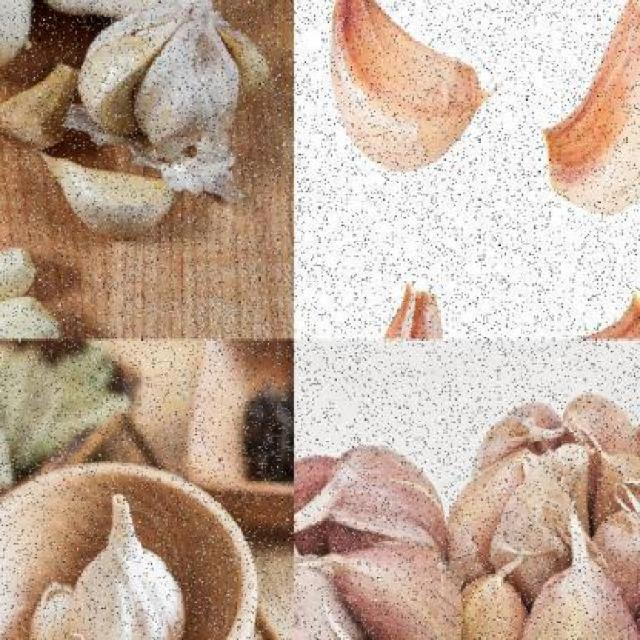garlic: (442, 390, 640, 639), (75, 1, 278, 161), (294, 446, 451, 640), (329, 0, 500, 172), (540, 0, 639, 218), (70, 491, 188, 638), (40, 159, 185, 239), (314, 278, 448, 338), (502, 286, 640, 339), (0, 64, 80, 150), (0, 250, 63, 338)
